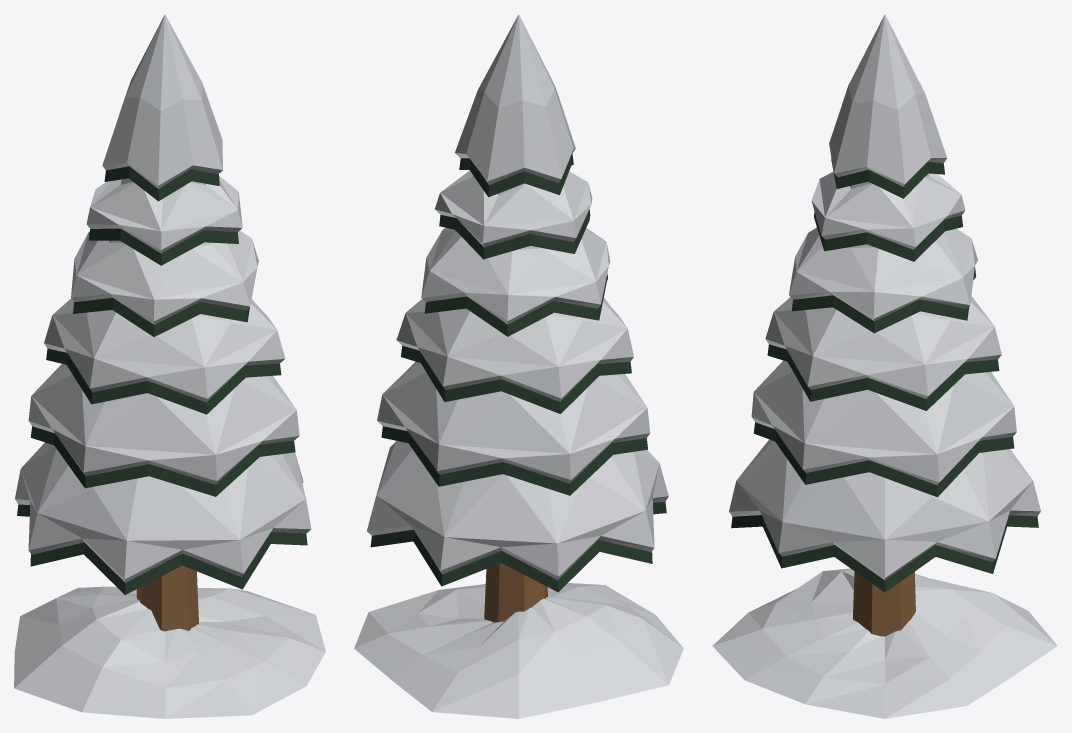
File: snow-laden-spruce-36716e.glb
3 renders of one model, left to right at view 1: azimuth 30°, elevation 25°; view 2: azimuth 150°, elevation 25°; view 3: azimuth 270°, elevation 25°, orthographic.
Parts seen in each view (by area): view 1: snow-laden-spruce-36716e; view 2: snow-laden-spruce-36716e; view 3: snow-laden-spruce-36716e.
Part boxes in pixels (x1,y1,x2,y2): snow-laden-spruce-36716e: (14, 14, 325, 718); snow-laden-spruce-36716e: (354, 14, 683, 718); snow-laden-spruce-36716e: (712, 14, 1057, 718).
Bounding box in the file's own units: 3 × 6.06 × 3.
